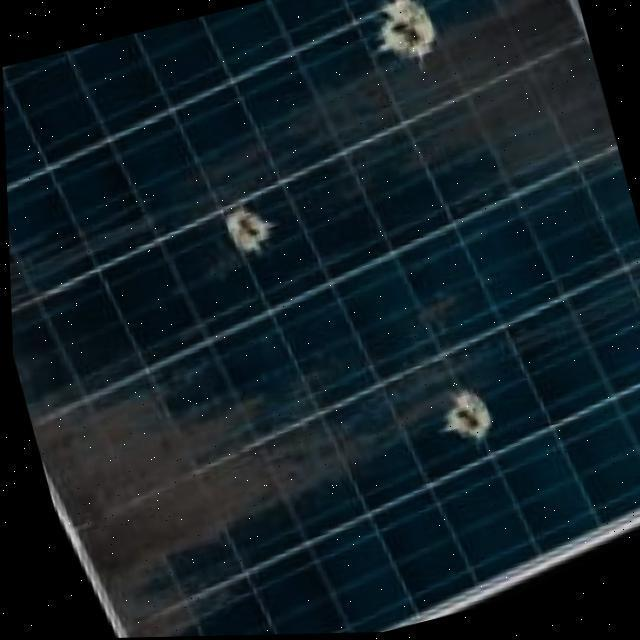Surface Contaminant: (11, 338, 462, 638), (172, 0, 630, 226), (367, 0, 439, 63), (434, 387, 493, 446), (219, 203, 273, 261)
